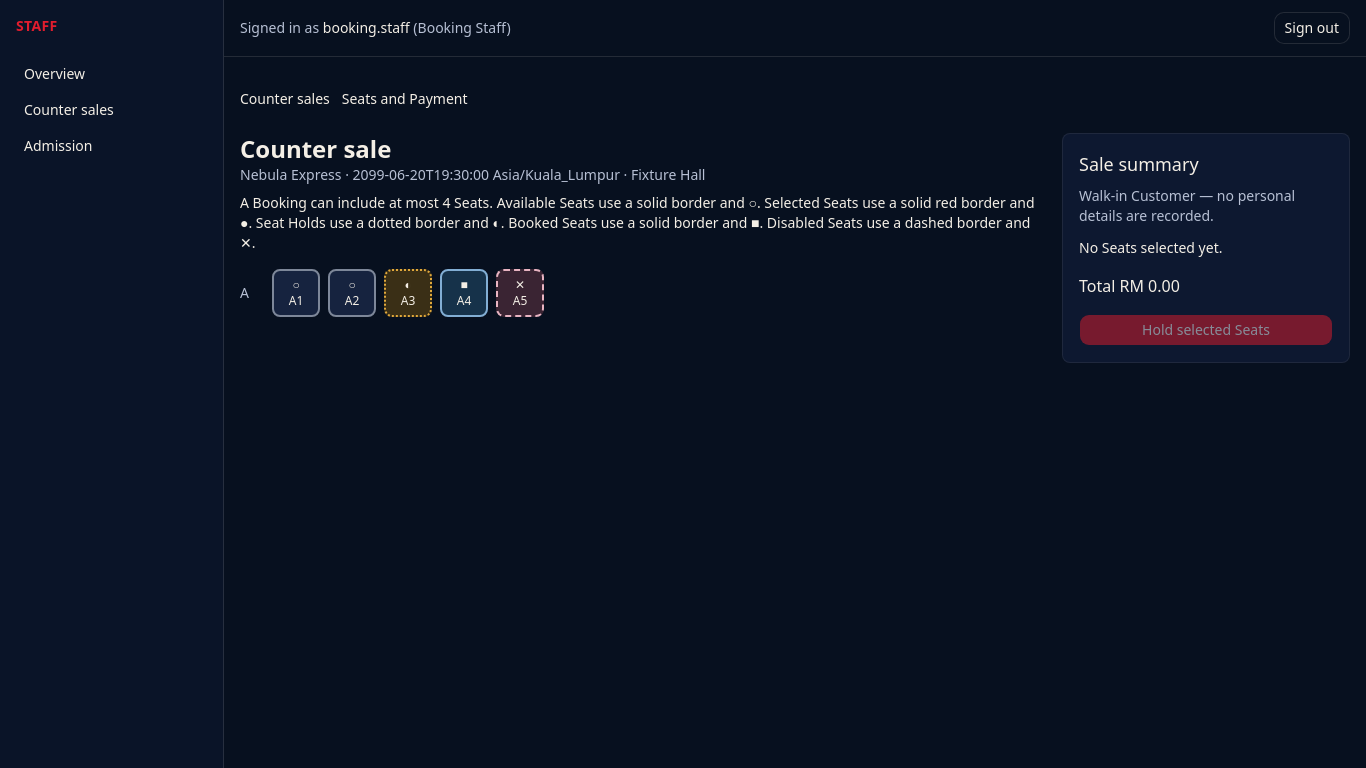
Test: CounterSalePage › clears the sale when the Seat Hold is no longer active
This screenshot has width=1366, height=768.
Click the button named "Seat A1, available". click: (296, 293)
box: [272,269,320,317]
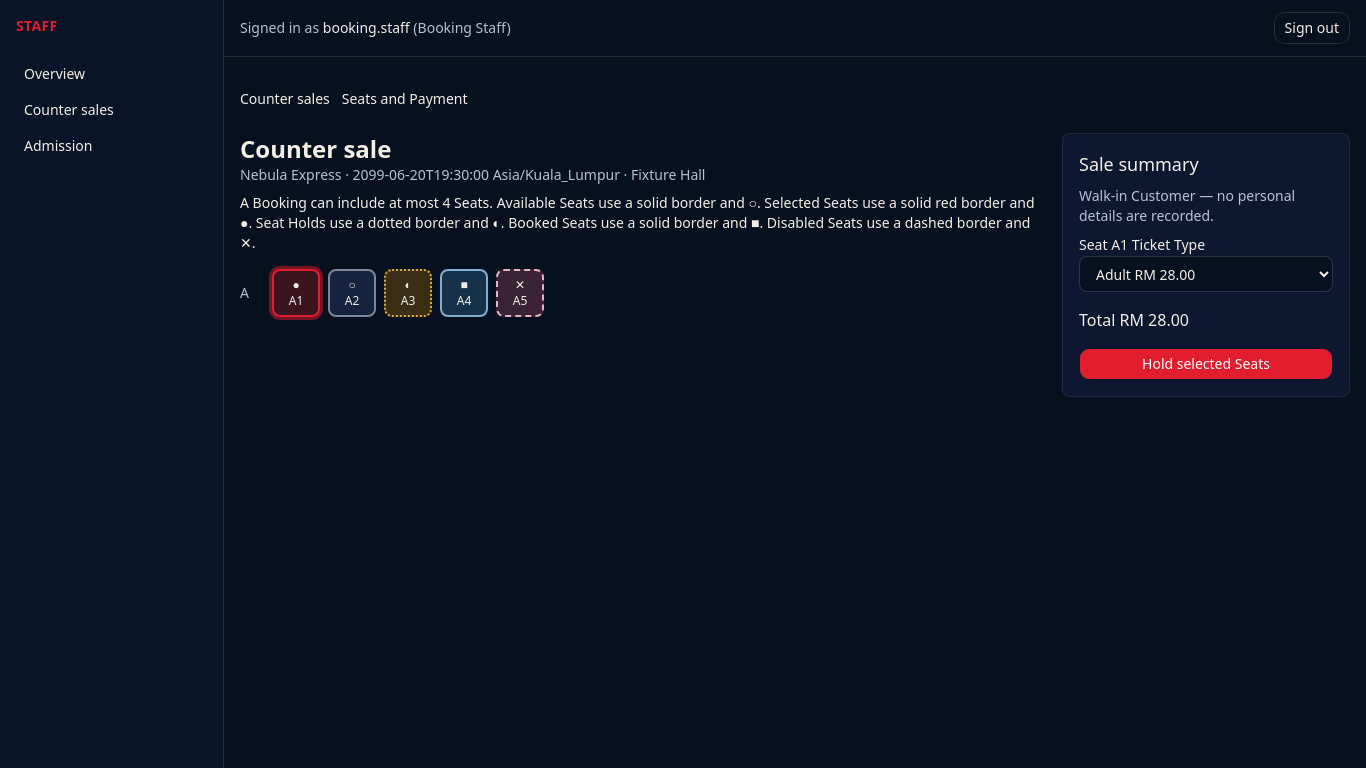
Click the button "Hold selected Seats". click: (1206, 364)
box: [1079,348,1333,380]
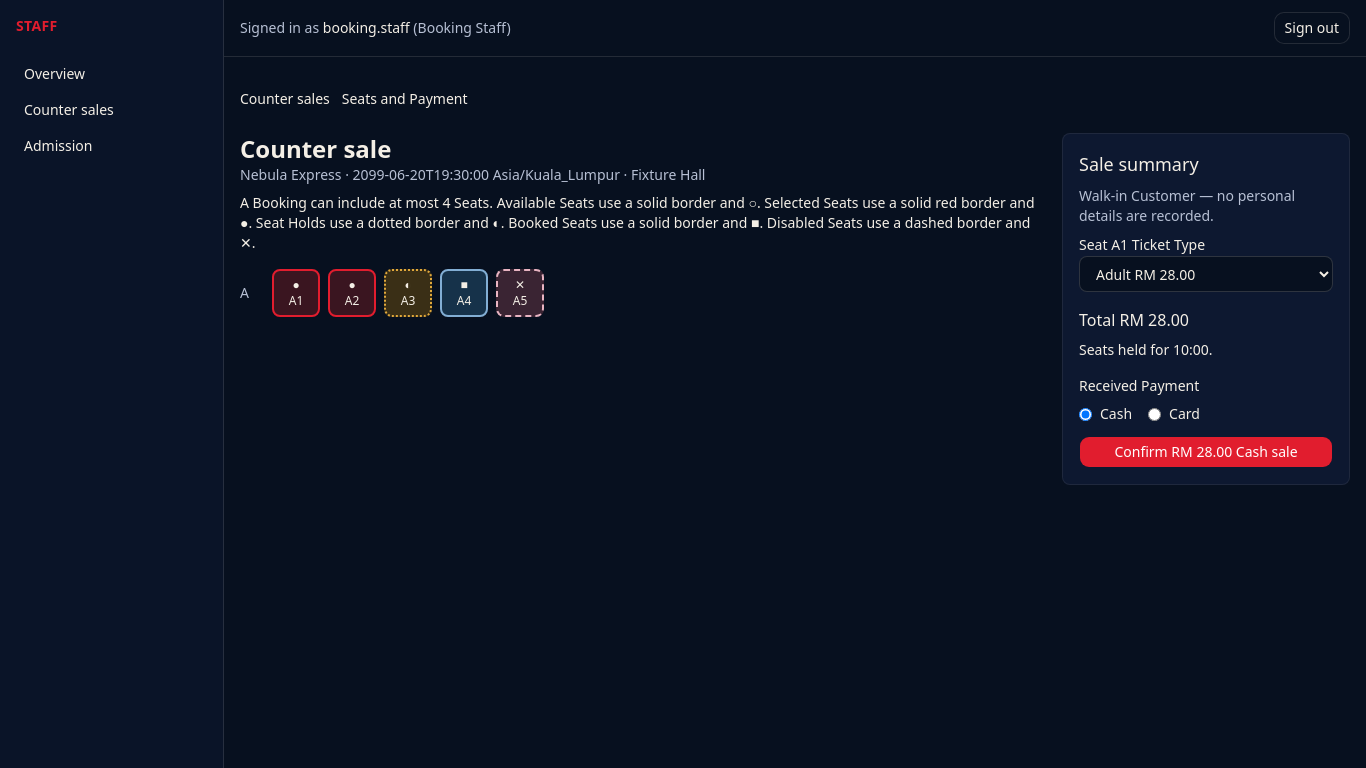
Result: the text "Seats held for 10:00." is shown at [1079,340,1212,359]
Click the button "Confirm RM 28.00 Cash sale". click: (1206, 452)
box: [1079,436,1333,468]
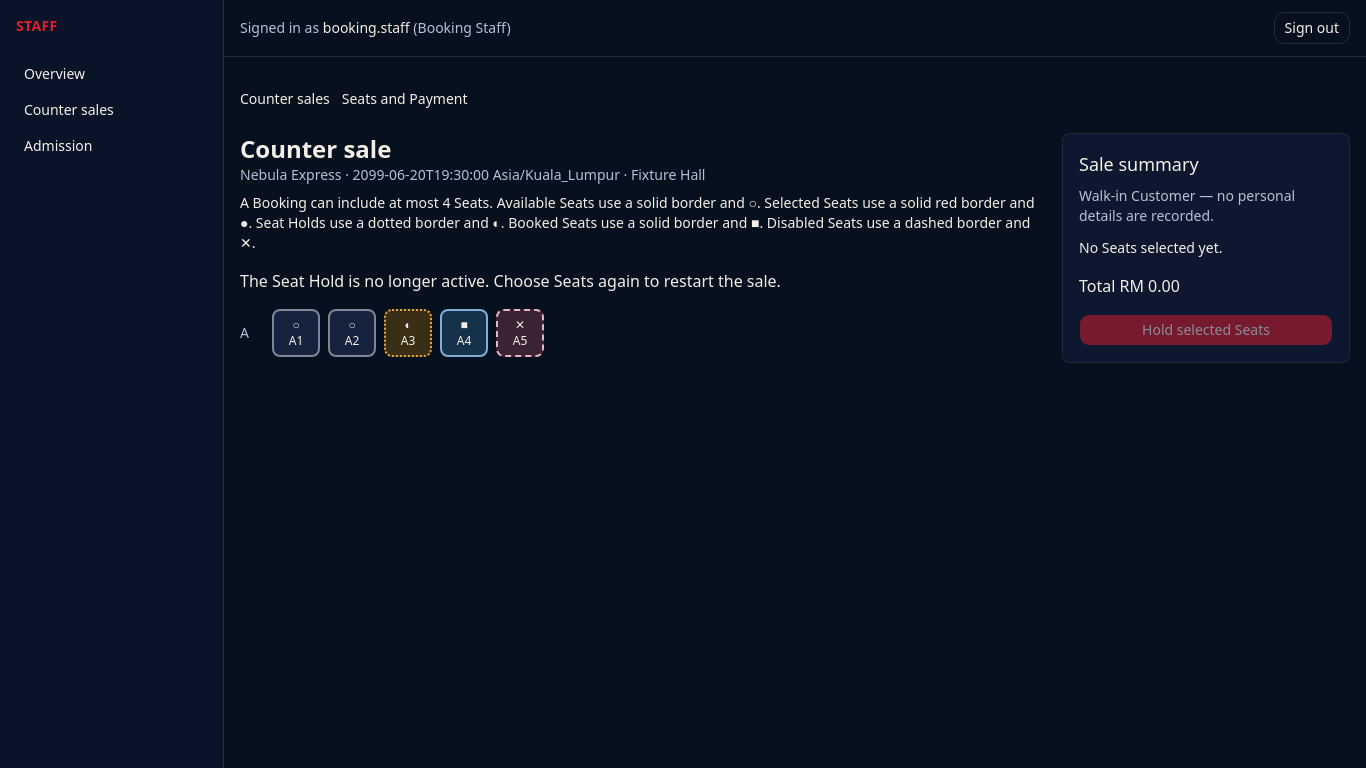
Result: the message "The Seat Hold is no longer active. Choose Seats again to restart the sale." is shown at [240,270,781,292]
Result: the button "Hold selected Seats" is shown at [1079,314,1333,346]
